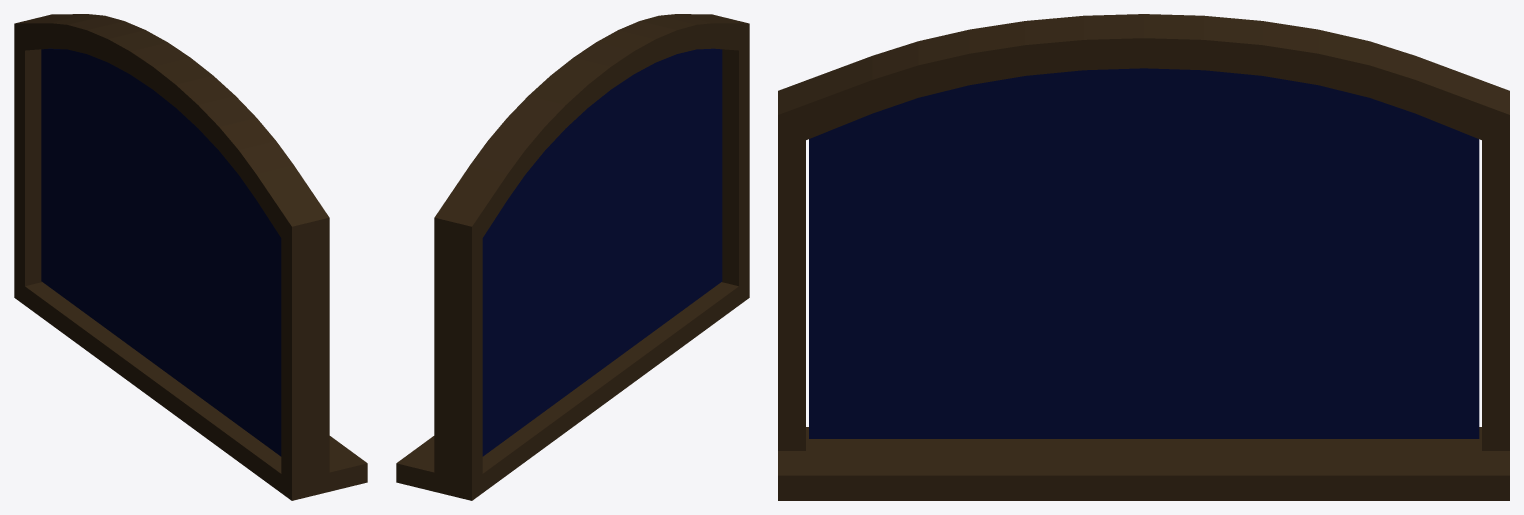
File: WINDOW LIGHTING.fbx
3 renders of one model, left to right at view 1: azimuth 30°, elevation 25°; view 2: azimuth 150°, elevation 25°; view 3: azimuth 270°, elevation 25°, orthographic. The views are drawn at different scales.
Visible parts, largest first — view 1: Plane, Cube.002; view 2: Plane, Cube.002; view 3: Plane, Cube.002.
Part boxes in pixels (left/top/right/bottom): Plane: left=41, top=48, right=281, bottom=456; Cube.002: left=14, top=14, right=367, bottom=500; Plane: left=482, top=48, right=722, bottom=456; Cube.002: left=396, top=14, right=749, bottom=500; Plane: left=809, top=68, right=1479, bottom=438; Cube.002: left=778, top=14, right=1509, bottom=500.
Bounding box in the file's own units: 173 × 726 × 1099.
